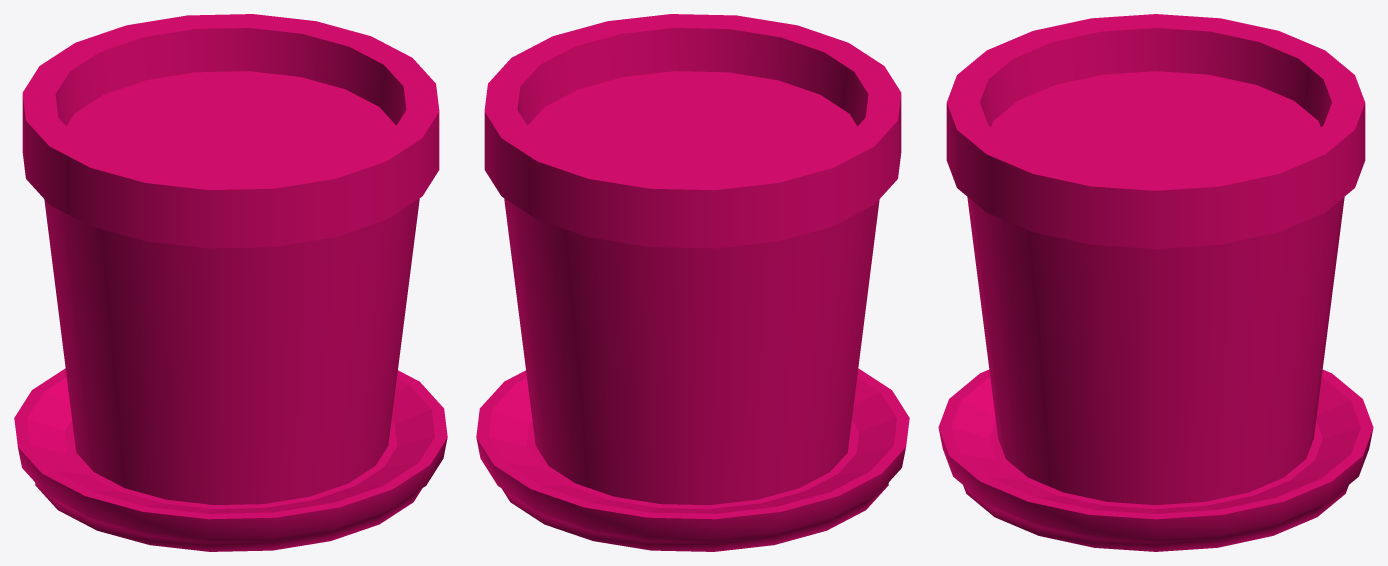
File: Plant_Pot_01_Lod0.fbx
The picture shows the model from 3 angles, left to right: view 1: azimuth 30°, elevation 25°; view 2: azimuth 150°, elevation 25°; view 3: azimuth 270°, elevation 25°; orthographic projection.
Visible parts, largest first — view 1: Plant_Pot_01_Lod0; view 2: Plant_Pot_01_Lod0; view 3: Plant_Pot_01_Lod0.
Boxes of the visible parts, left/top/right/bottom form: Plant_Pot_01_Lod0: left=14, top=14, right=447, bottom=551; Plant_Pot_01_Lod0: left=476, top=14, right=909, bottom=551; Plant_Pot_01_Lod0: left=938, top=14, right=1373, bottom=551.
Size of the model in its own units: 24.07 by 22.3 by 24.07.
